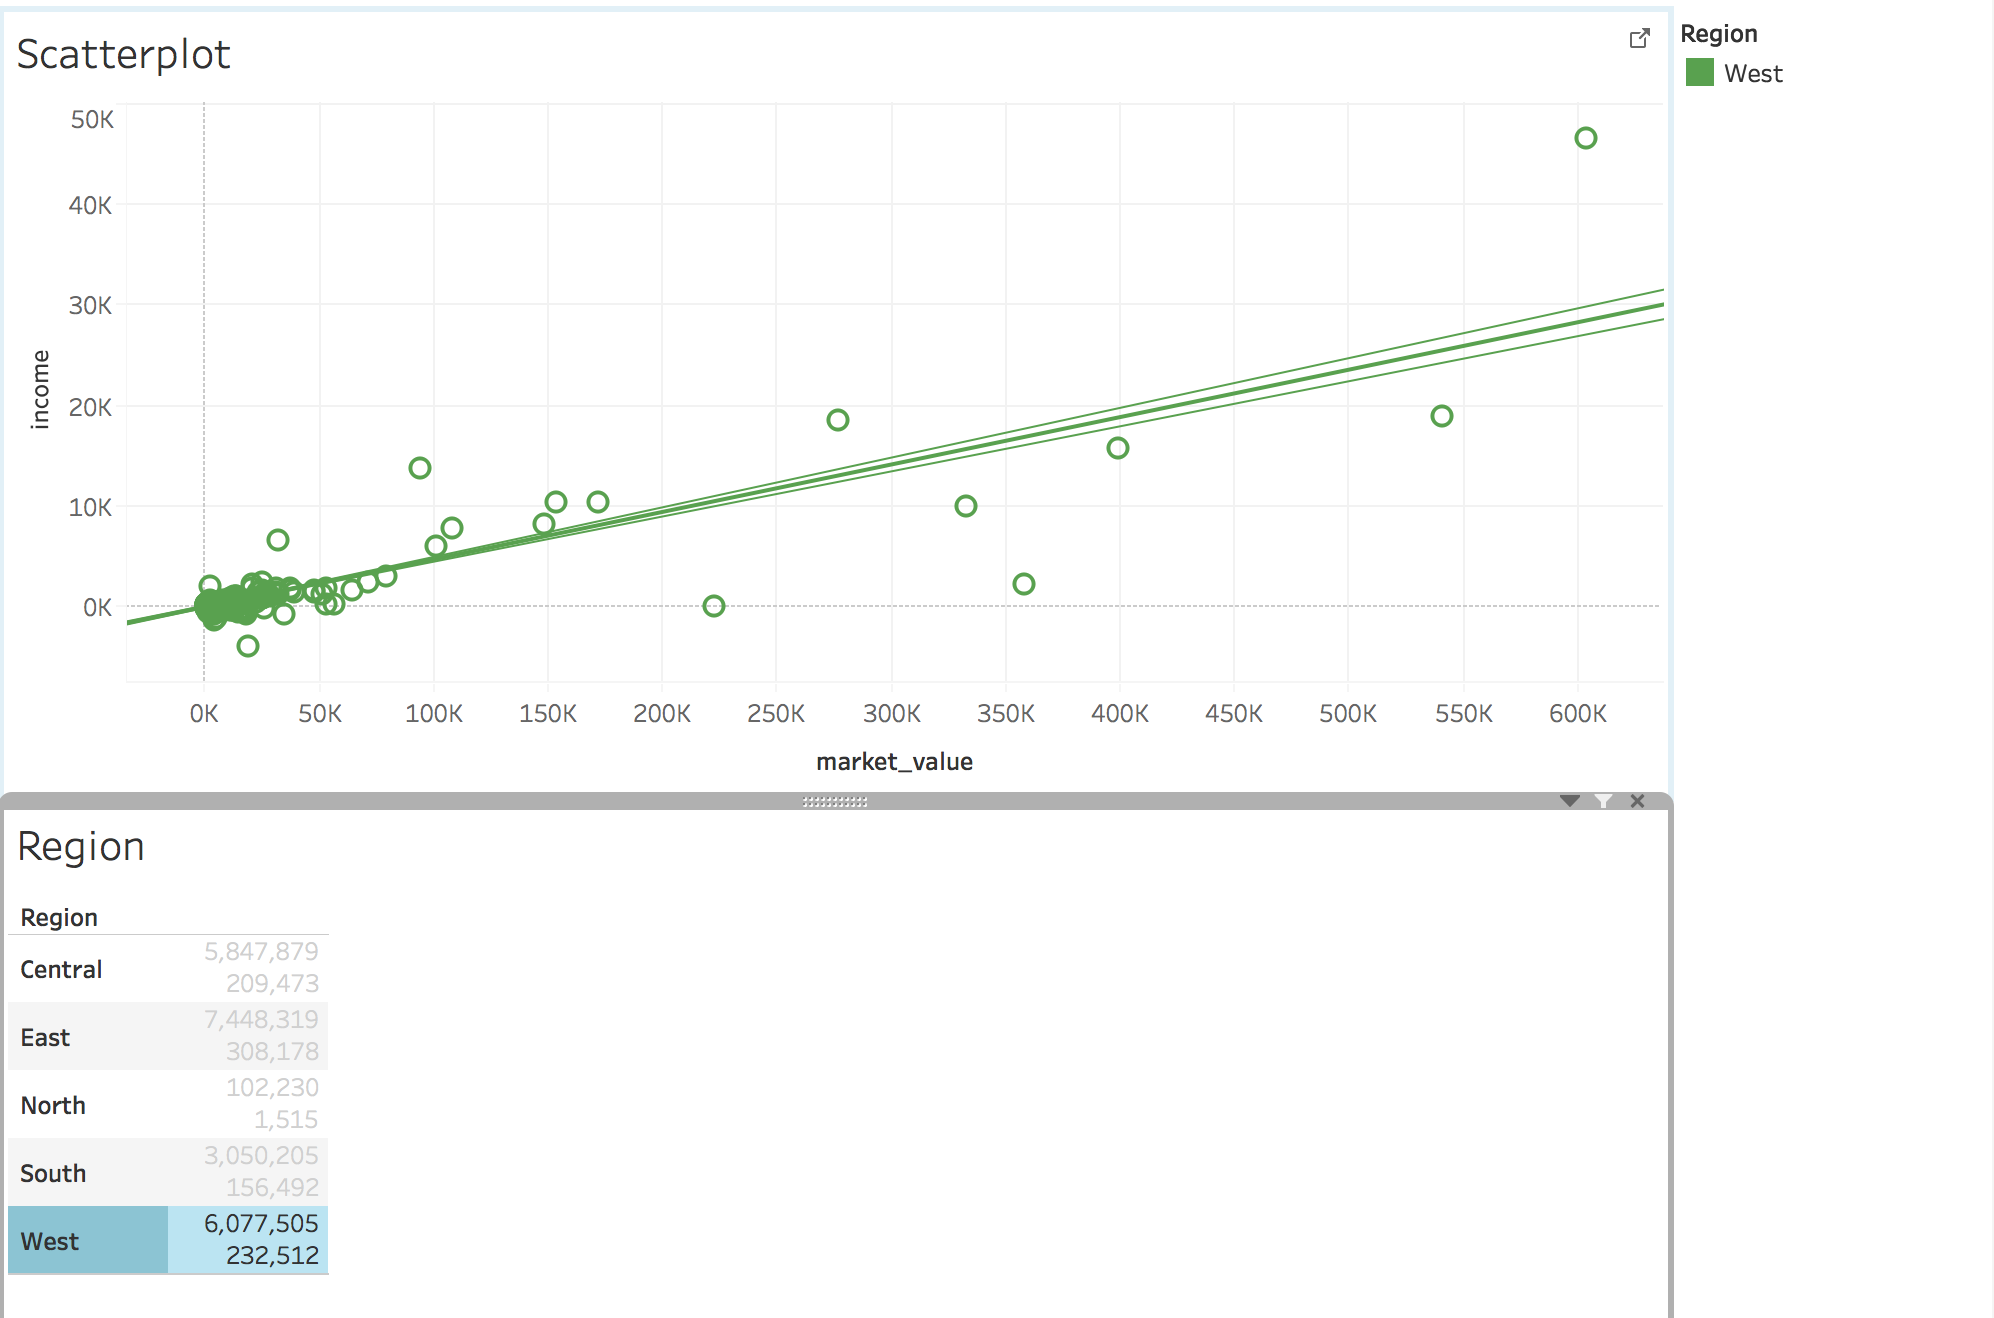

This screenshot's page, from the dashboard's own definition file:
{"tool":"tableau","page":{"name":"Dashboard","canvas":[1000,800],"ordinal":0},"visuals":[{"type":"worksheet","title":"Scatterplot","mark":"Automatic","rows":["v_8"],"cols":["v_14"],"box":[0,0,840,400]},{"type":"legend","title":"Scatterplot","param":"[federated.09xwelj0bzqzvf1bfoy841itga37].[none:v_0 (Region):nk]","box":[840,0,160,50]},{"type":"worksheet","title":"Region","mark":"Automatic","rows":["v_0 (Region)"],"box":[0,400,840,400]}]}

Visuals, with their boxes on the page's 1000x800 design canvas (x1, y1, x2, y2). These are canvas units, not pixel positions in the 1994x1318 screenshot, which may show the page scaled, cropped or inside an application window:
"Scatterplot" worksheet: box(0, 0, 840, 400)
"Scatterplot" legend: box(840, 0, 1000, 50)
"Region" worksheet: box(0, 400, 840, 800)
